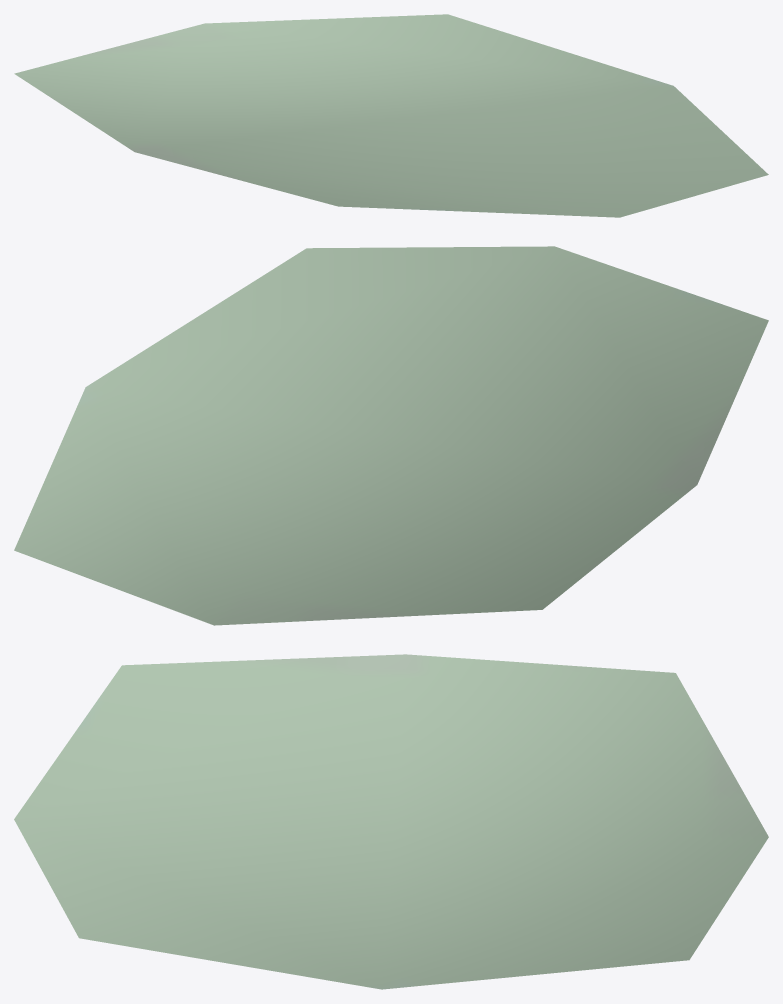
File: TROLLHOLE02_HOLECAP104.fbx
3 views of the same model, one above another, from view 1: azimuth 30°, elevation 25°; view 2: azimuth 150°, elevation 25°; view 3: azimuth 270°, elevation 25° (orthographic). The views are drawn at different scales.
Visible parts, largest first — view 1: TROLLHOLE02_HOLECAP104; view 2: TROLLHOLE02_HOLECAP104; view 3: TROLLHOLE02_HOLECAP104.
Part boxes in pixels (x1,y1,x2,y2): TROLLHOLE02_HOLECAP104: [14, 14, 768, 217]; TROLLHOLE02_HOLECAP104: [14, 246, 768, 625]; TROLLHOLE02_HOLECAP104: [14, 654, 768, 989].
Bounding box in the file's own units: 23555 × 3931 × 27155.
1 material, 1 textured.
